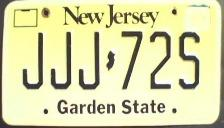2: (148, 31, 175, 91)
7: (116, 29, 145, 92)
J: (49, 30, 74, 91), (77, 30, 102, 91), (21, 31, 45, 91)
S: (177, 29, 207, 94)
